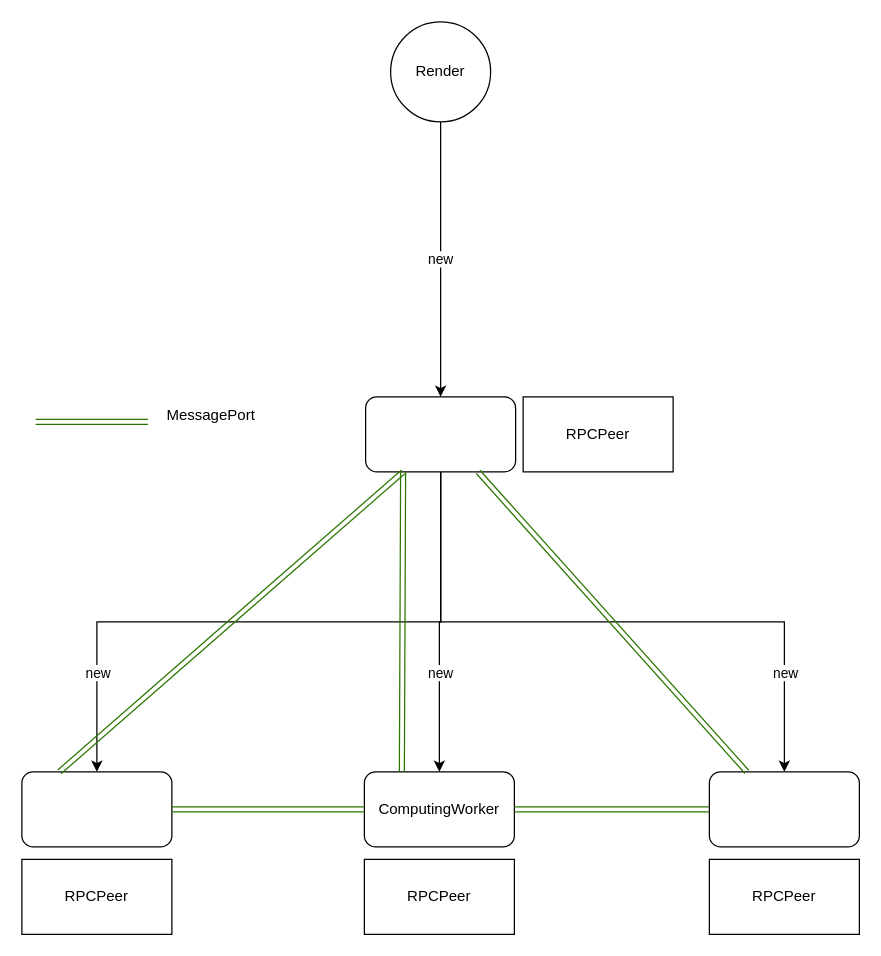
Some shapes in this 881 by 956 pixel diagram are drawn without their labels. The box of each missing label's shape, as (x1, y1, x2, y2) in pixels:
ForemanWorker: (364, 396, 516, 472)
HeartBeatWorker: (21, 771, 172, 847)
ResourceWorker: (708, 771, 859, 847)
